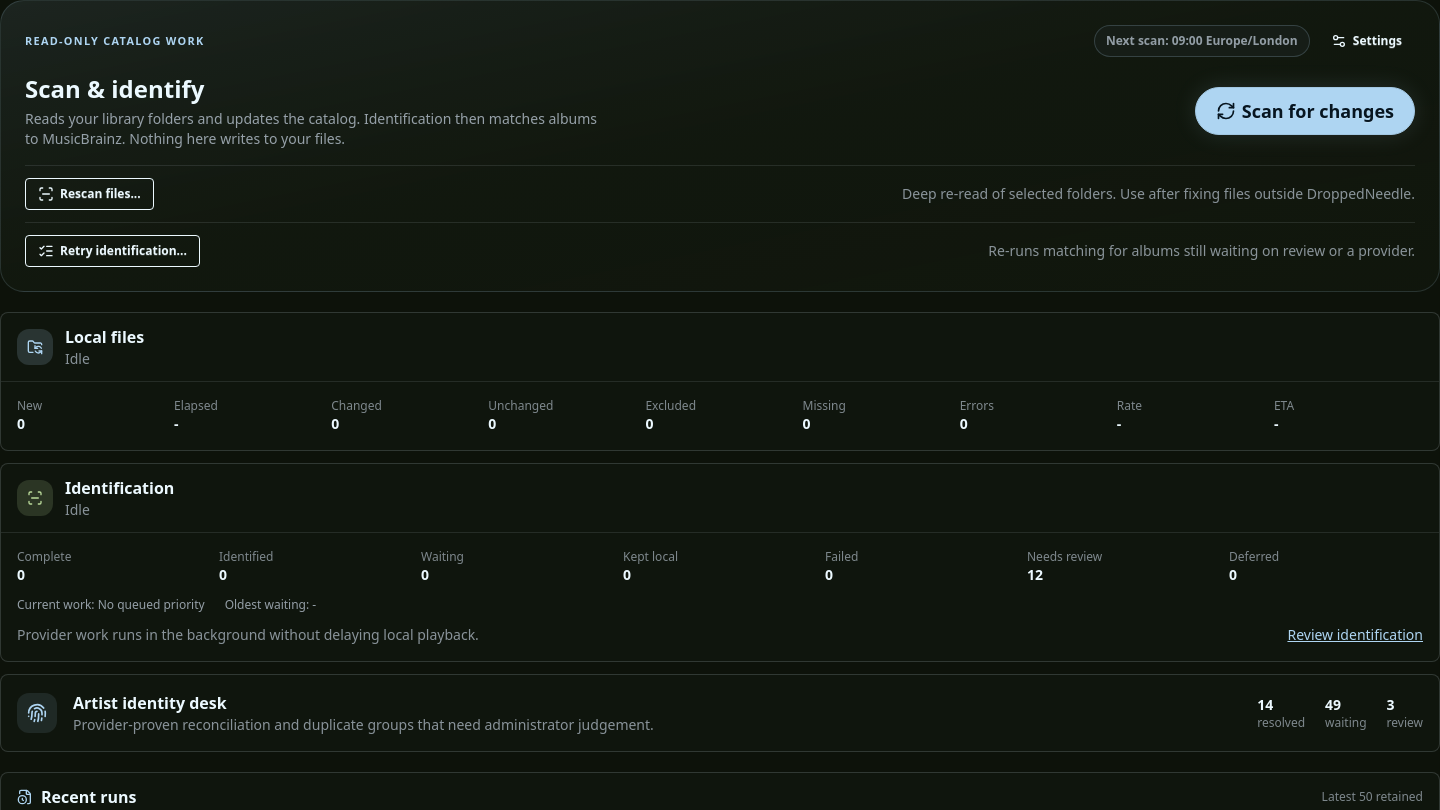
Test: LibraryScanningPanel › releases a finished retry so another one can be started
The image size is (1440, 810).
Click the button "Retry identification...": x=112, y=251 [25,235,200,267]
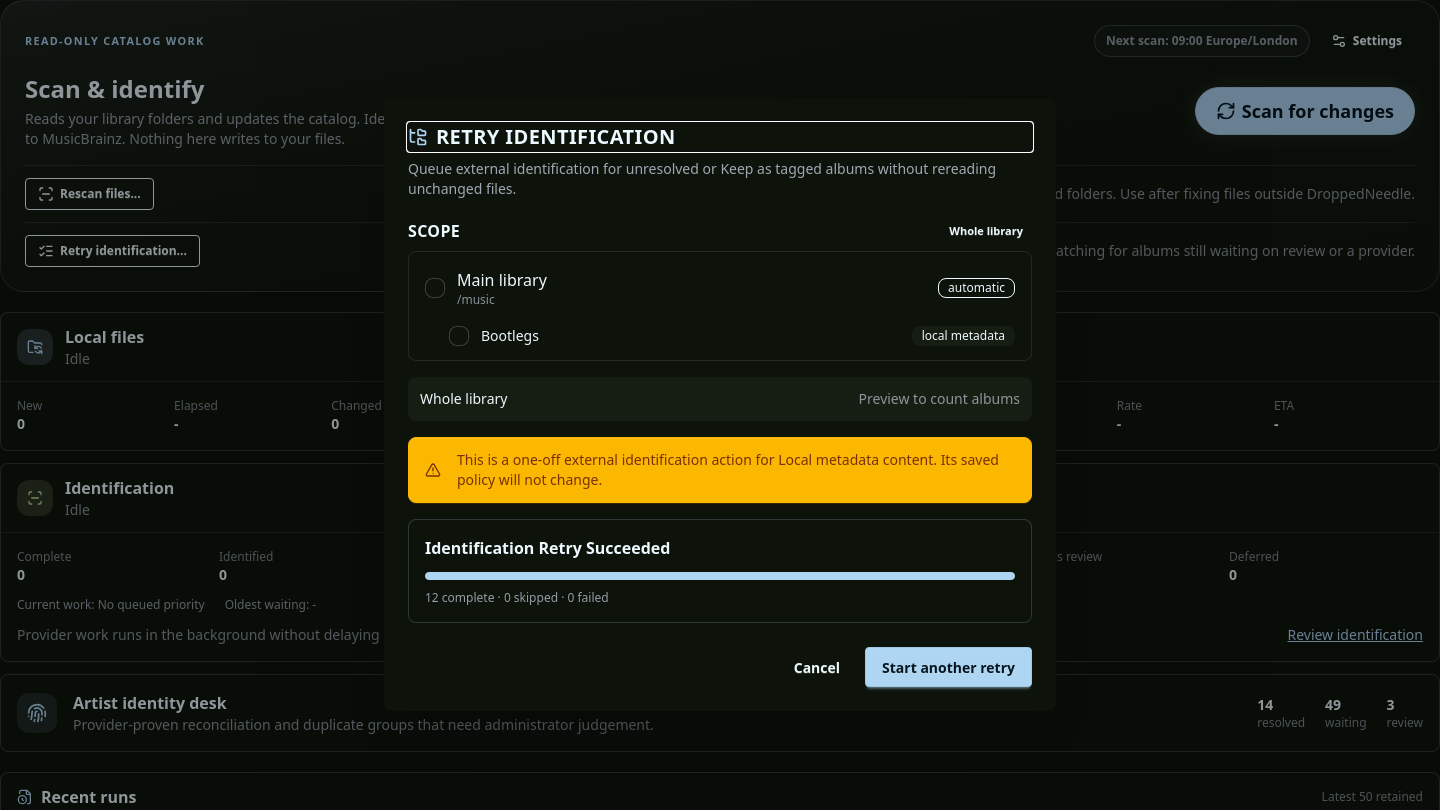
Now the text "Identification retry succeeded" is shown, box [425,536,670,560]
Click the button "Start another retry": x=949, y=667 [865,647,1032,687]
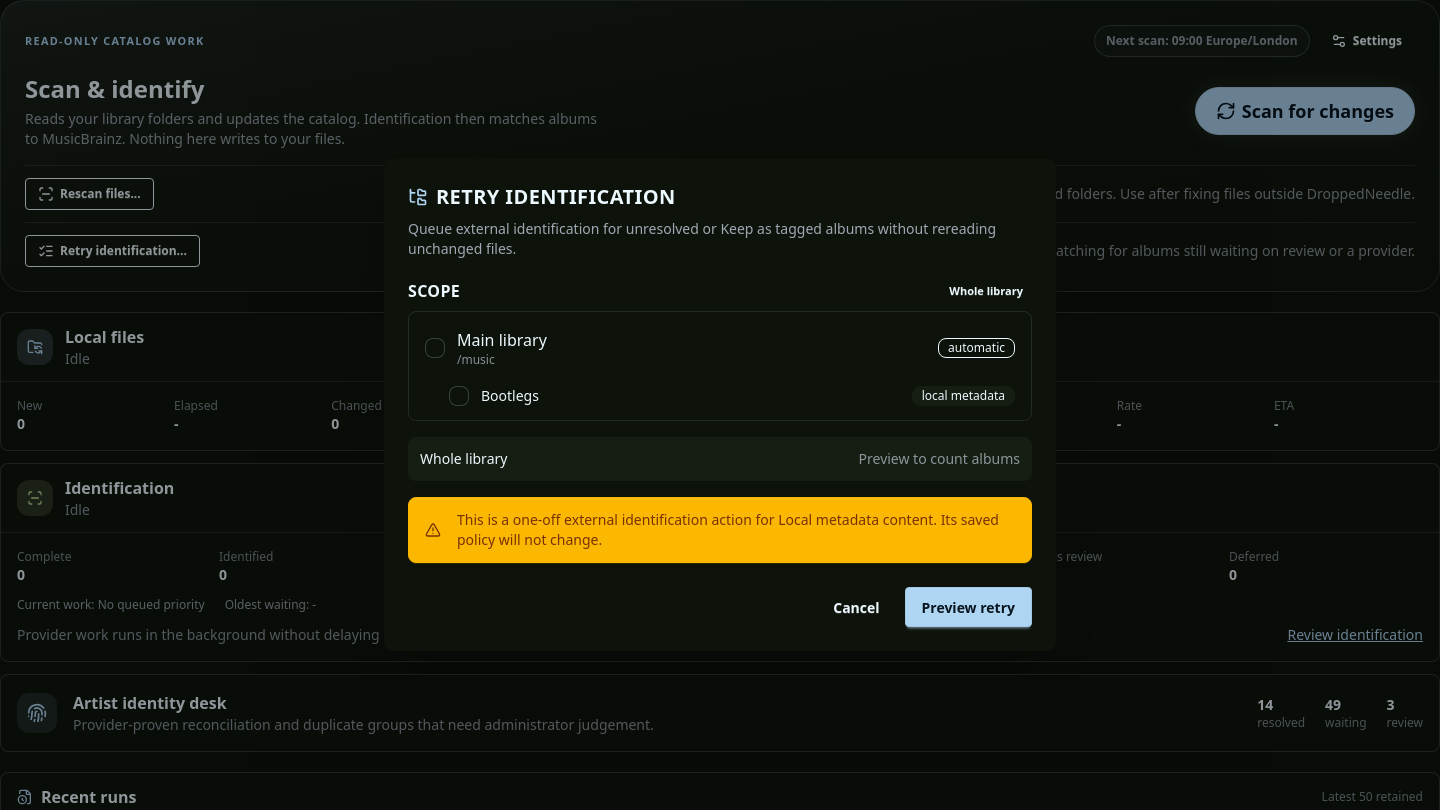
Now the button "Preview retry" is shown, box [904,587,1032,627]
